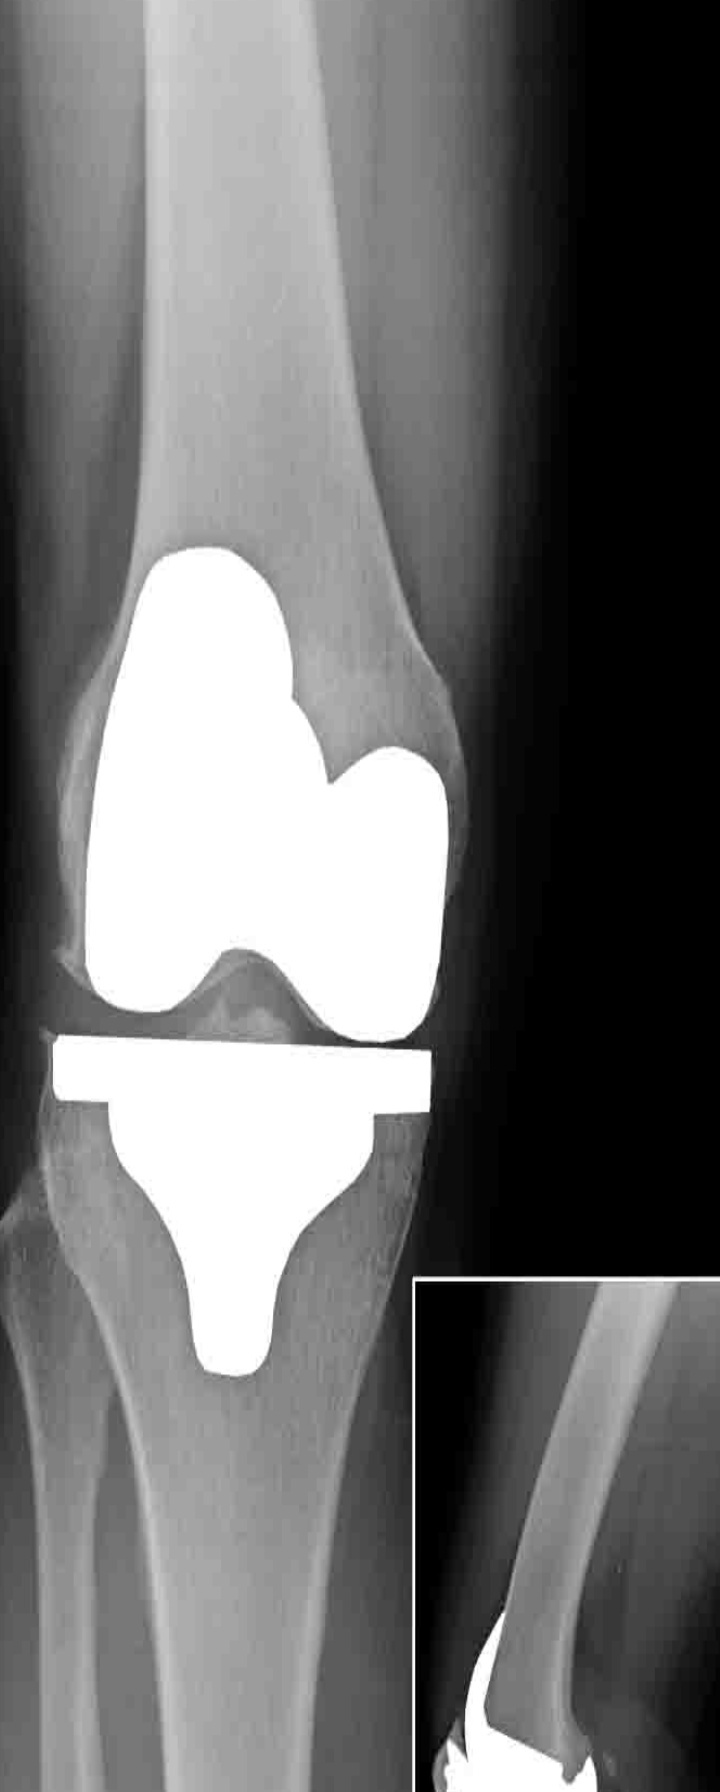Knee-TriathlonTritanium-Stryker: (48, 513, 451, 1385), (435, 1607, 623, 1787)
